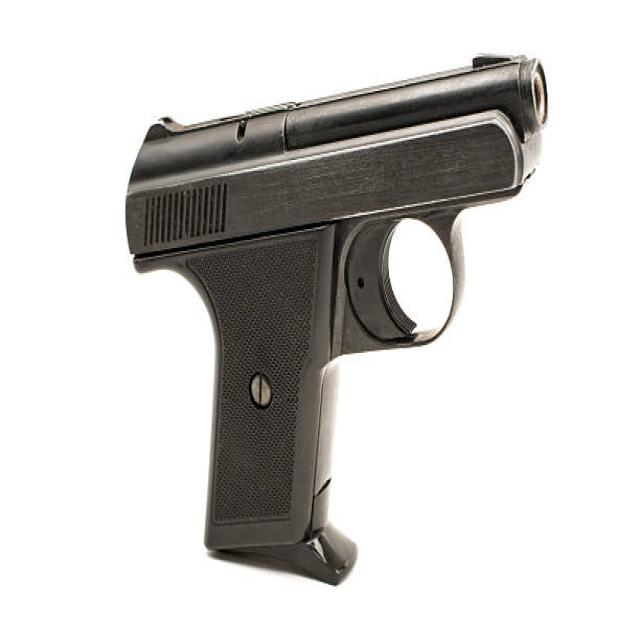pistol: (118, 43, 558, 595)
